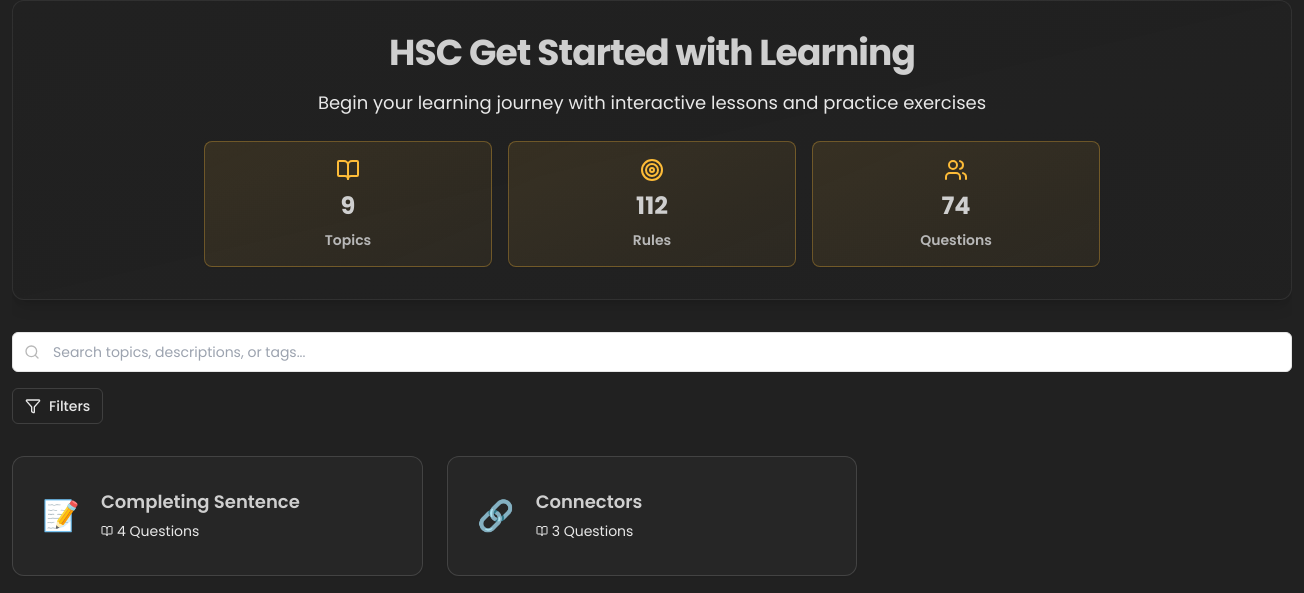
Test: UniversalTopicNavigation › filters topics based on search query
Step 1. Type "completing" into the field with placeholder "Search topics, descriptions, or tags..." → (652, 352), box [12,332,1292,372]
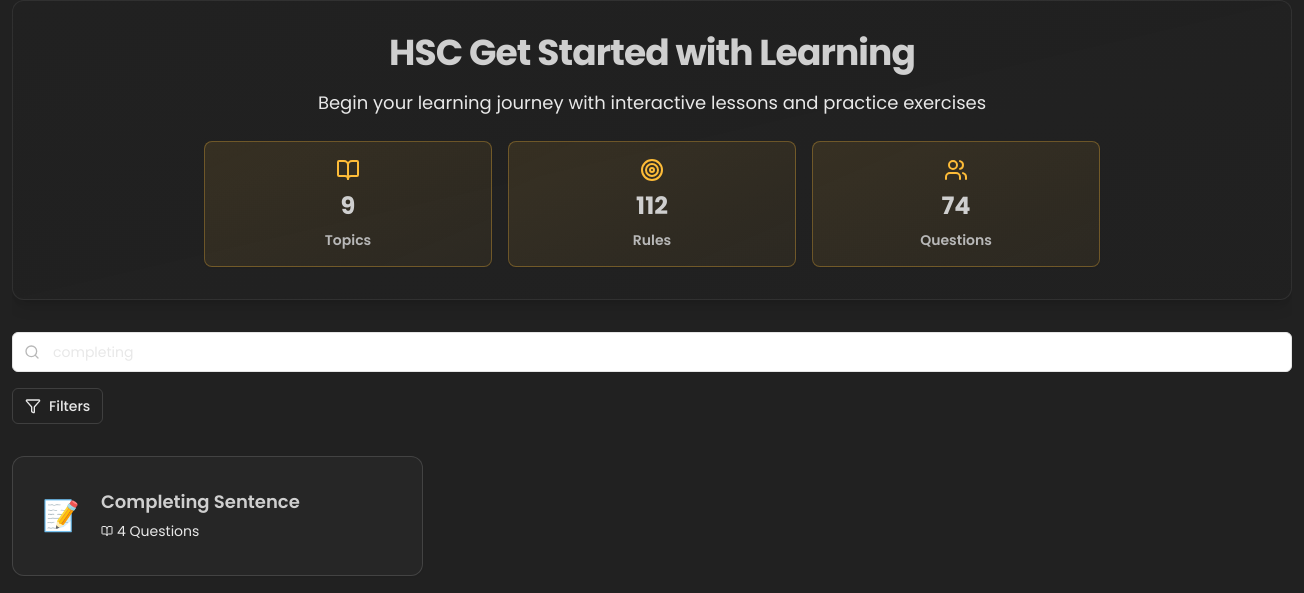
Check: the heading "Completing Sentence" is shown, box [101,489,300,514]
Check: the link "Connectors" is gone
